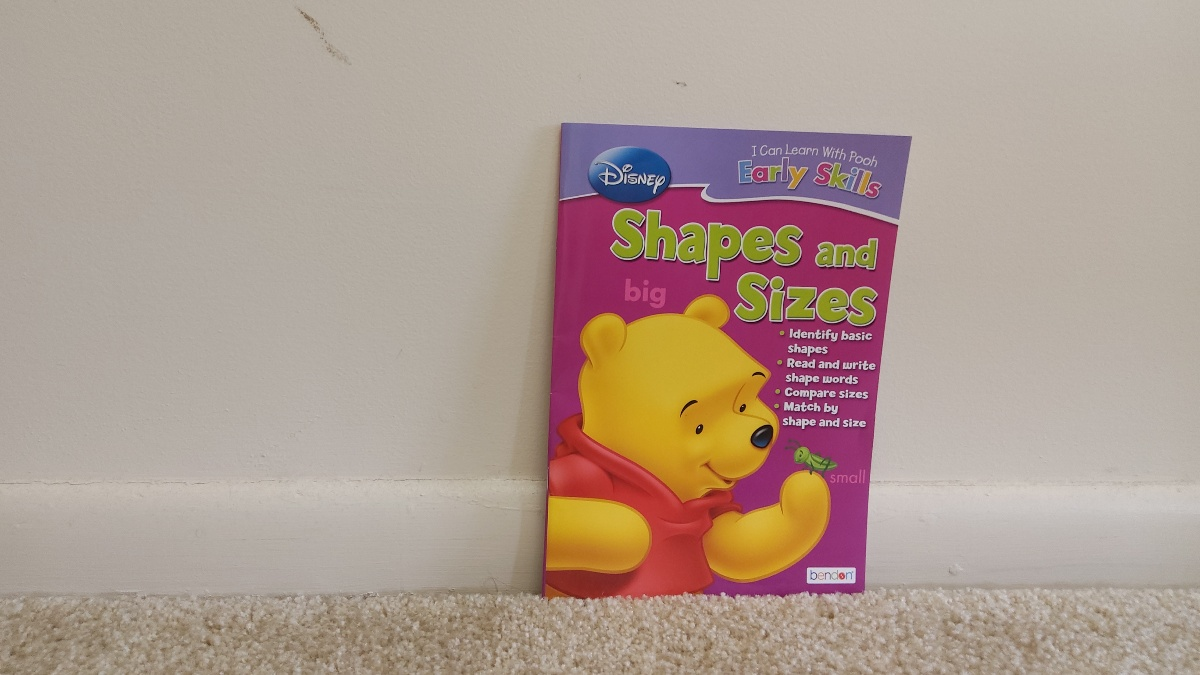book: (560, 125, 862, 595)
